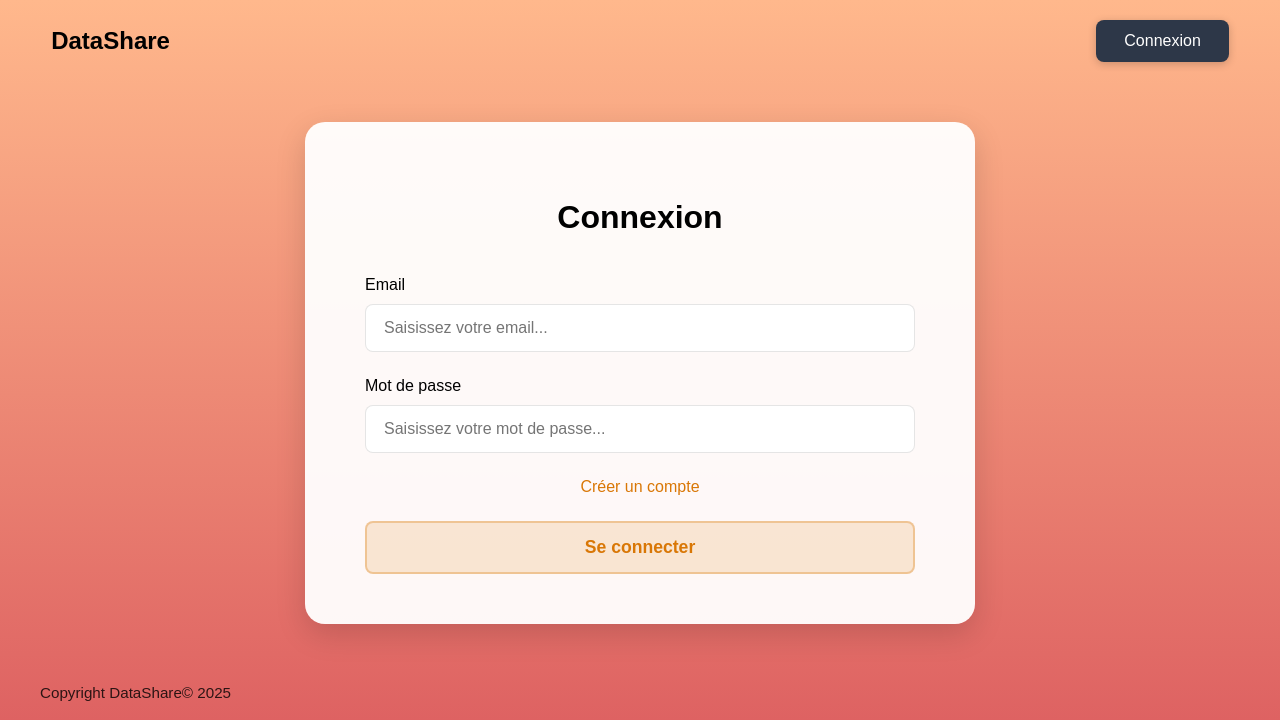
Connexion - Tests de Performance › TEST 5: L'affichage des erreurs devrait être rapide
This screenshot has width=1280, height=720.
Check: the field labelled "Email" is shown, box [365,304,915,352]
Click the button with test id "submit-button" at [640, 547], box [365,520,915,574]
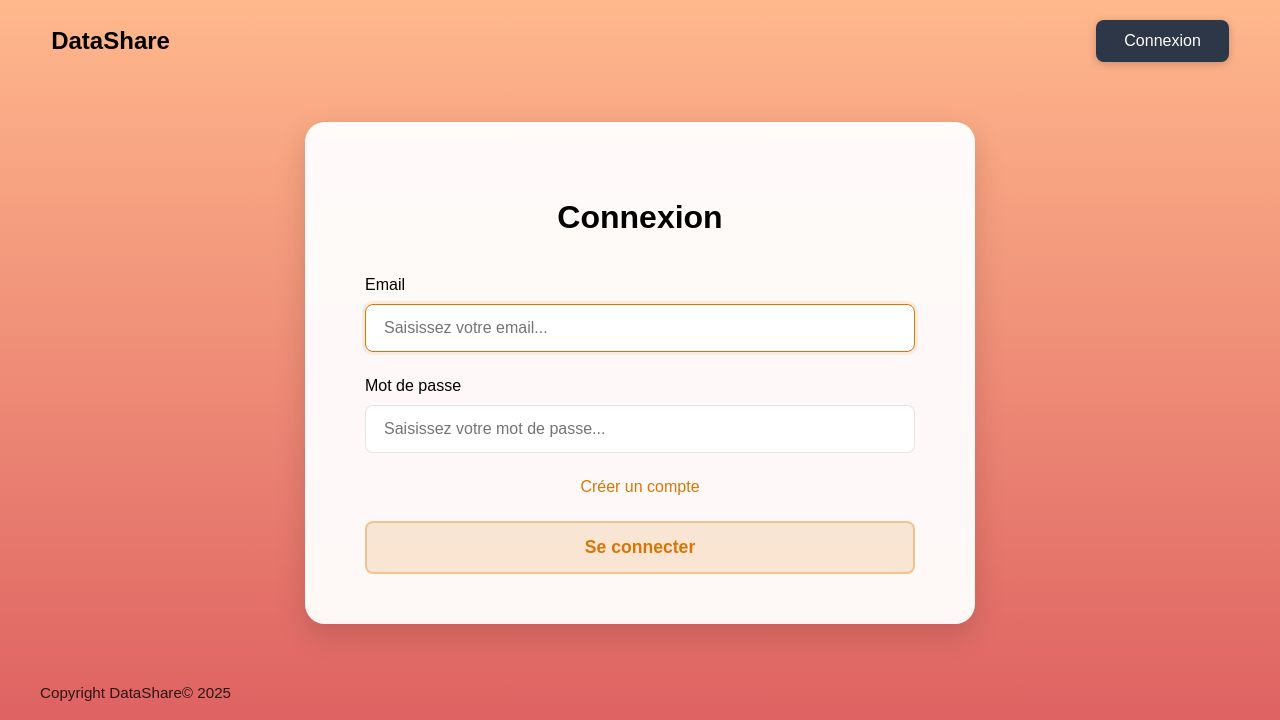
Type "wrong@test.com" into the field labelled "Email" at [640, 328], box [365,304,915,352]
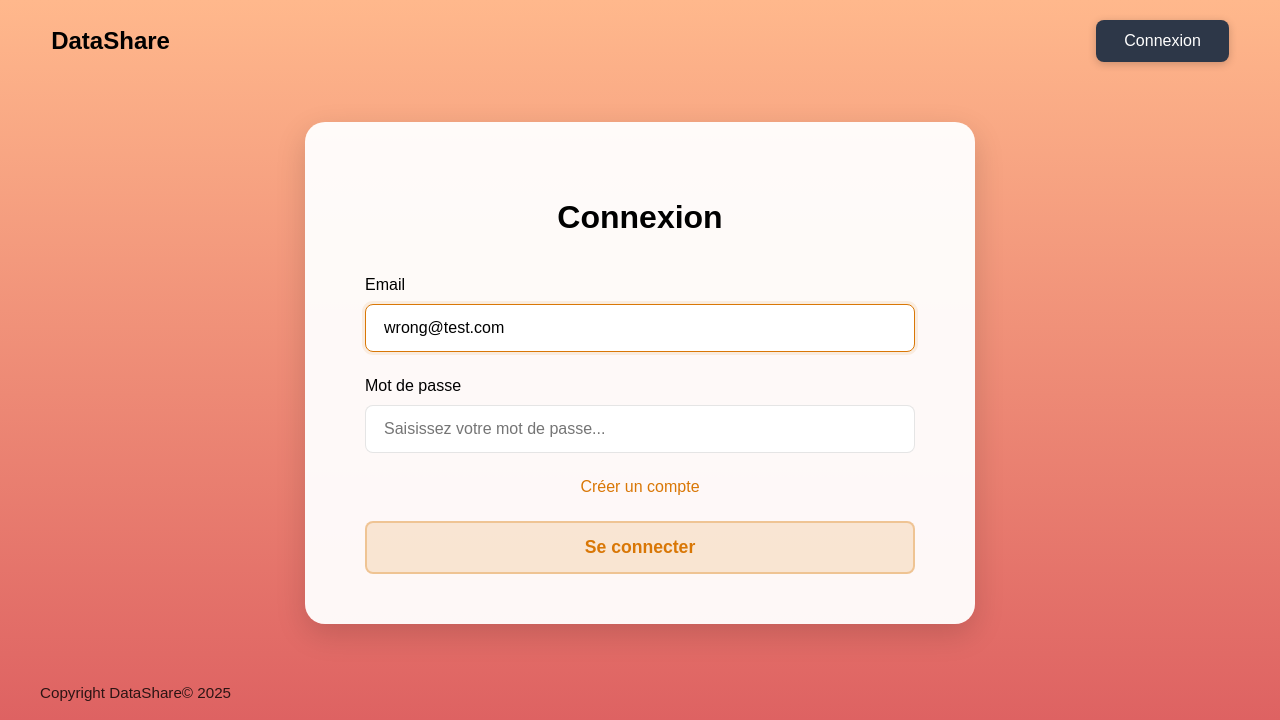
Type "wrongpass" into the password field labelled "Mot de passe" at [640, 428], box [365,404,915,452]
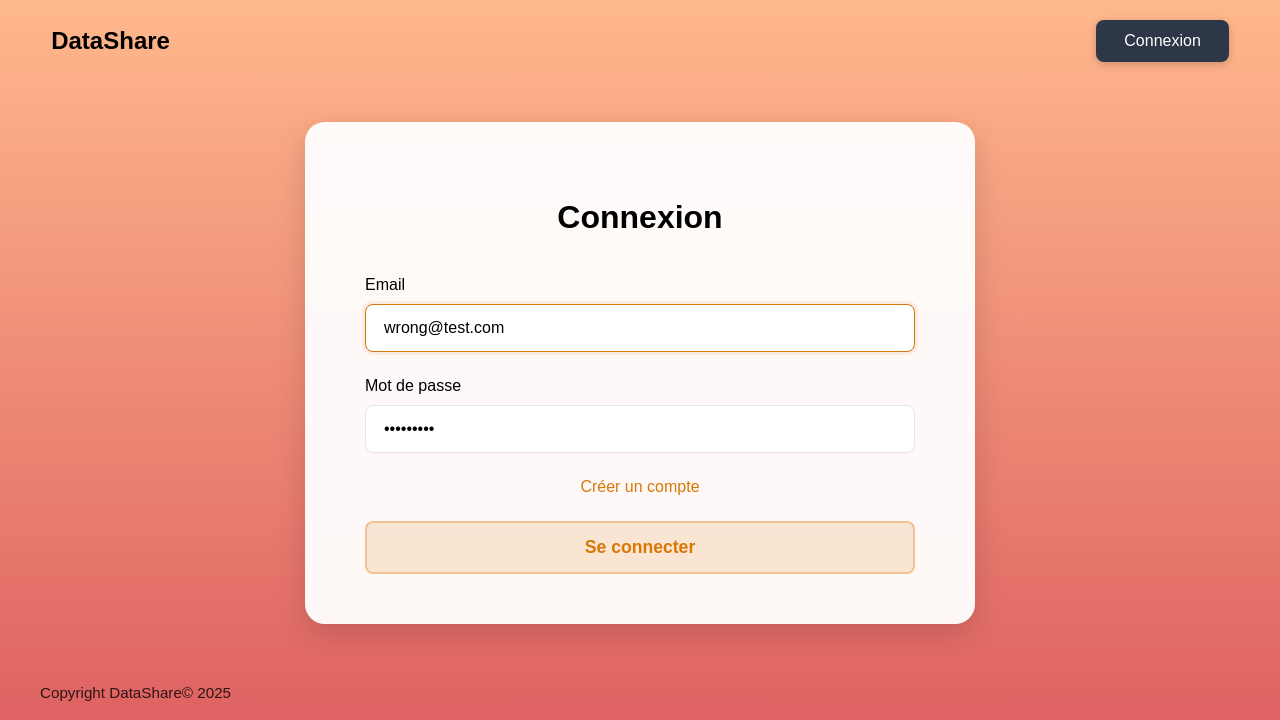
Click the button with test id "submit-button" at [640, 547], box [365,520,915,574]
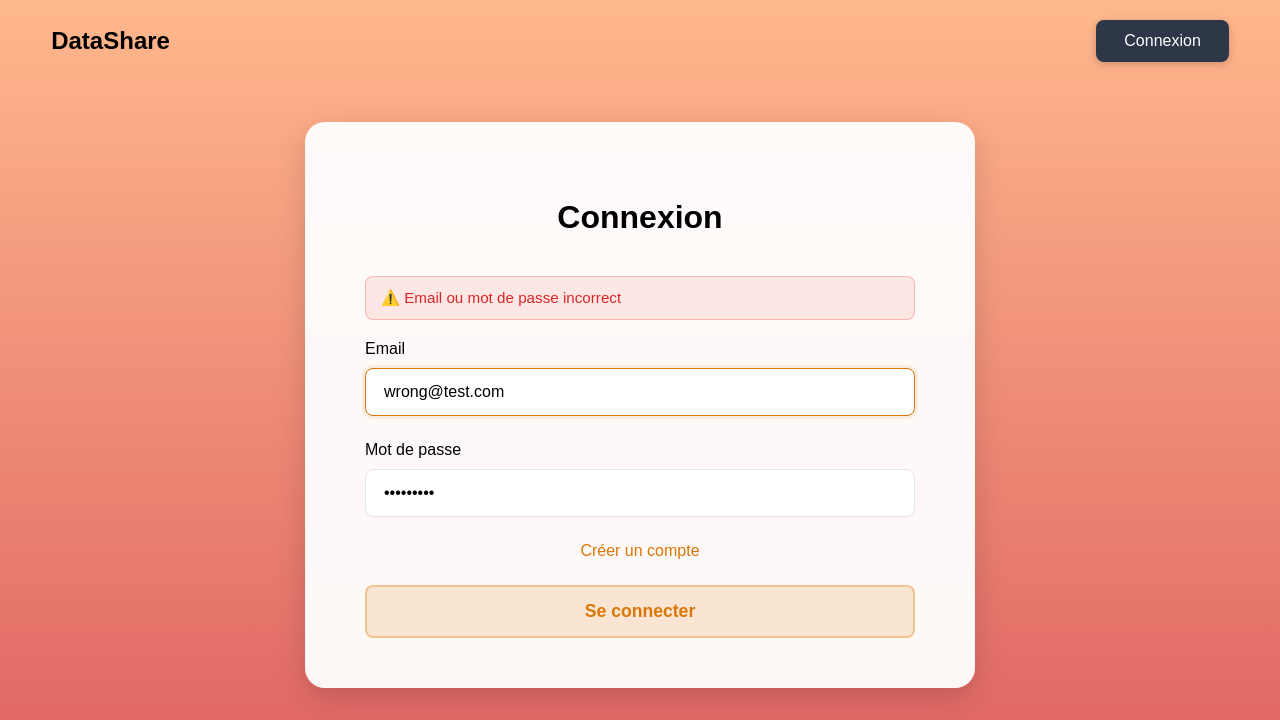
Check: the text "⚠️ Email ou mot de passe incorrect" is shown, box [365,276,915,320]
